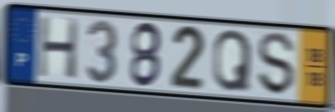2: (168, 24, 209, 94)
3: (84, 17, 119, 87)
8: (128, 19, 162, 90)
H: (36, 14, 81, 82)
Q: (211, 28, 254, 94)
S: (256, 31, 297, 99)
